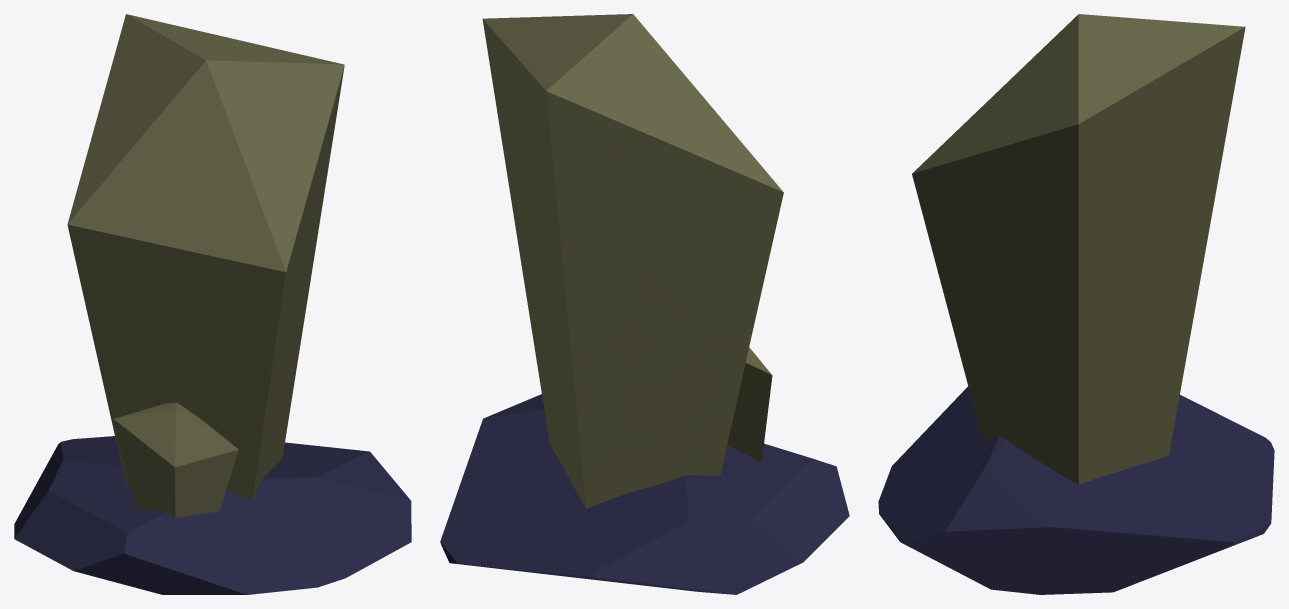
3 renders of one model, left to right at view 1: azimuth 30°, elevation 25°; view 2: azimuth 150°, elevation 25°; view 3: azimuth 270°, elevation 25°, orthographic. The views are drawn at different scales.
Visible parts, largest first — view 1: Nó 12; view 2: Nó 12; view 3: Nó 12.
Boxes of the visible parts, x1,y1,x2,y2 form: Nó 12: (14,14,411,594); Nó 12: (440,14,849,594); Nó 12: (878,14,1274,594).
Bounding box in the file's own units: 70.6 × 102 × 71.52.
Materials: 2 (1 with a texture image).
